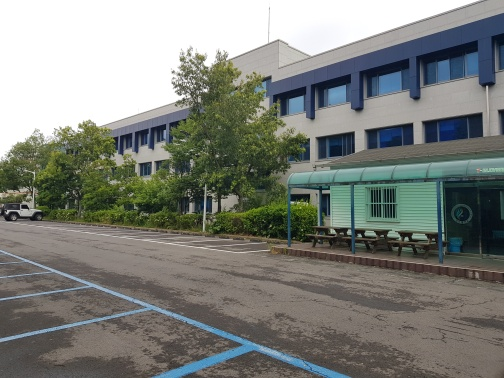College of Social Sciences: (111, 29, 504, 257), (272, 119, 504, 252)
